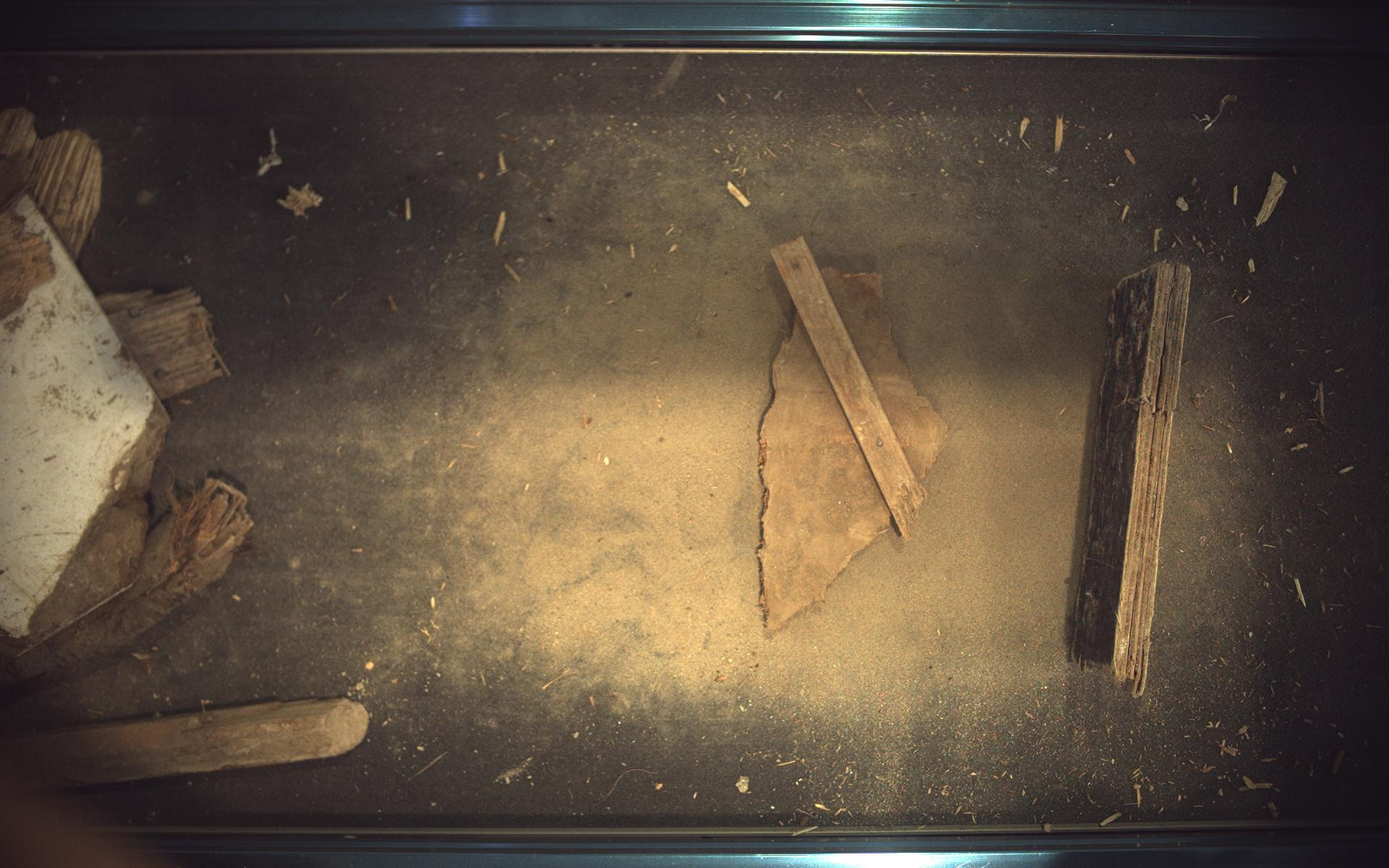wood: (760, 236, 948, 633)
